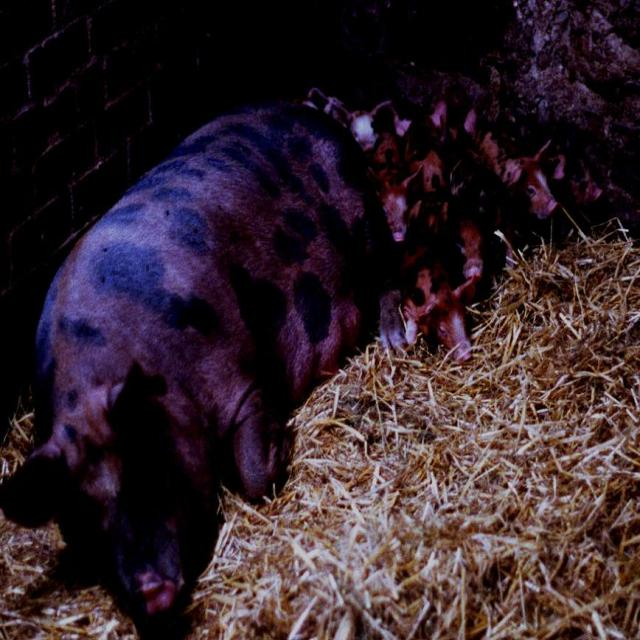pig: (0, 102, 405, 616)
